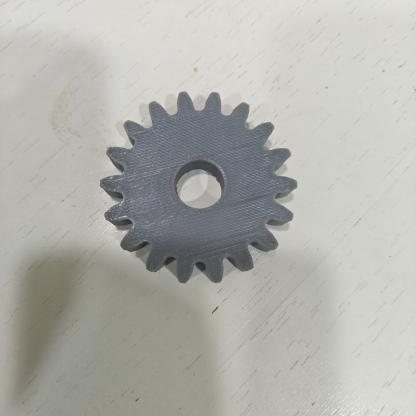gear: (100, 92, 297, 283)
